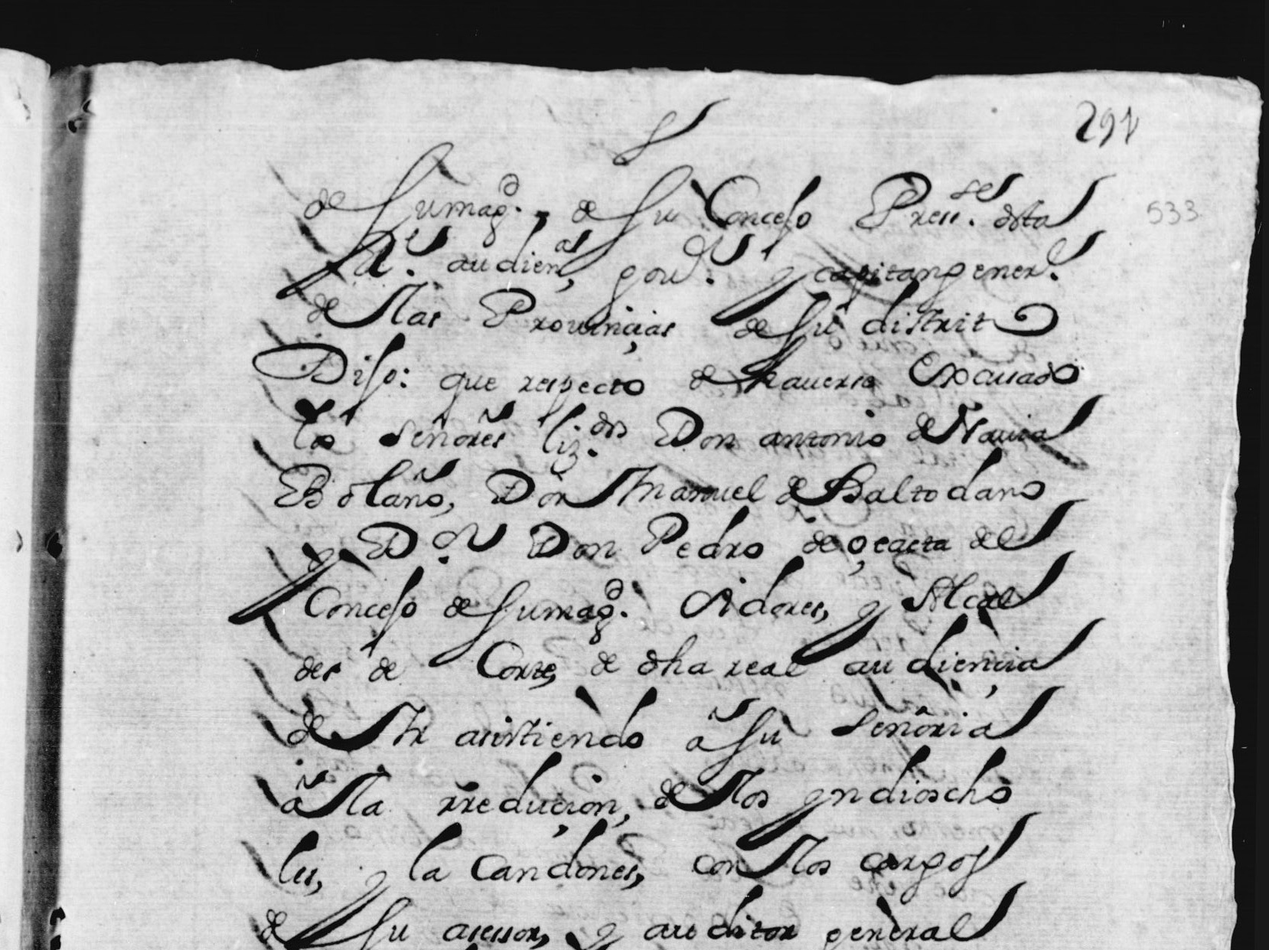lacandon: (409, 818, 638, 883)
